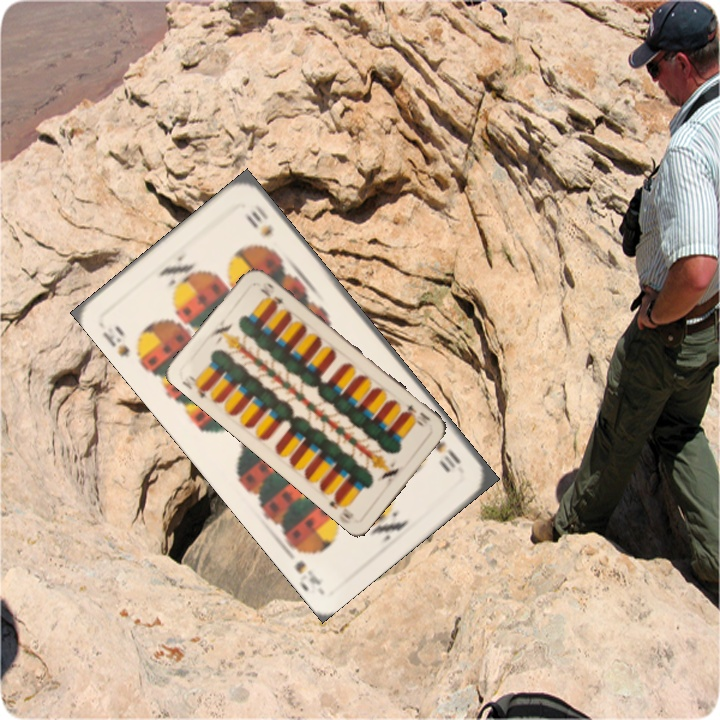E10: (178, 371, 212, 401), (399, 399, 433, 424)
S10: (430, 436, 464, 471), (98, 327, 133, 360)
